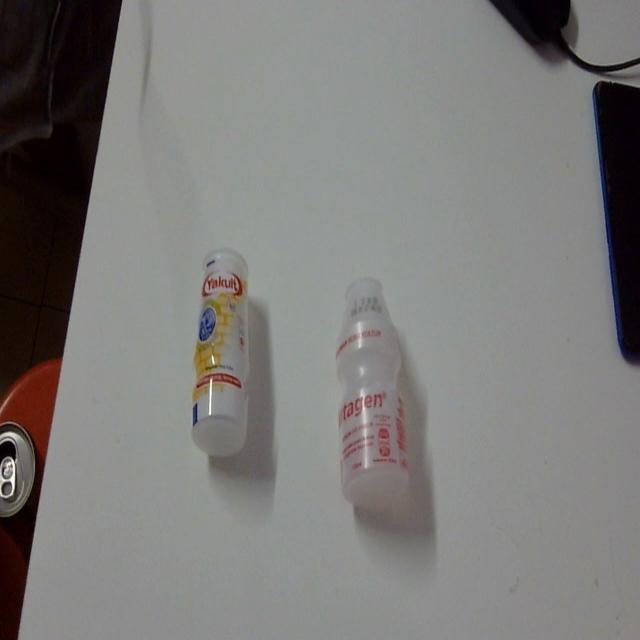plastic_laydown_90rotation: (326, 270, 426, 523), (188, 241, 258, 464)
